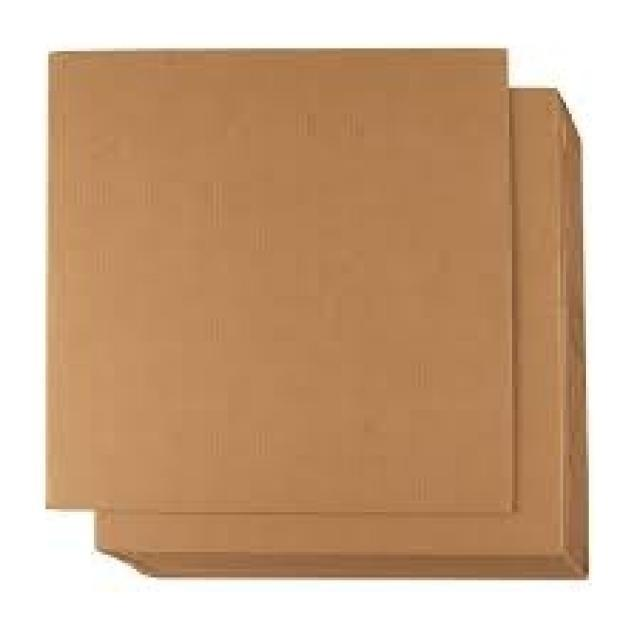cardboard paper: (46, 49, 585, 576)
